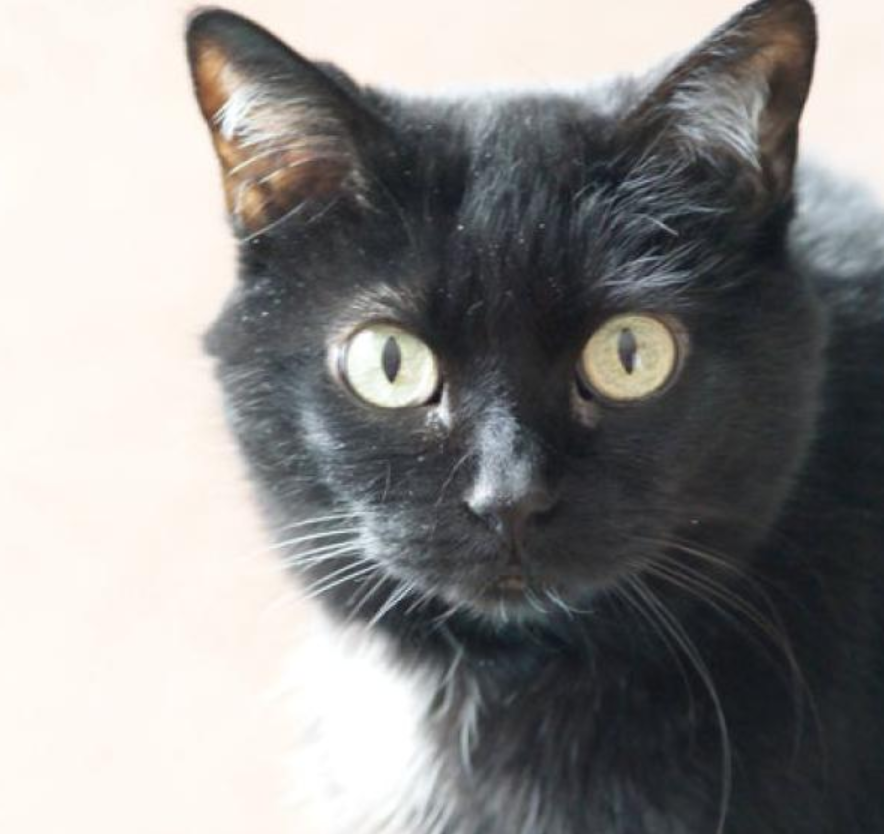gato: (167, 4, 881, 834)
